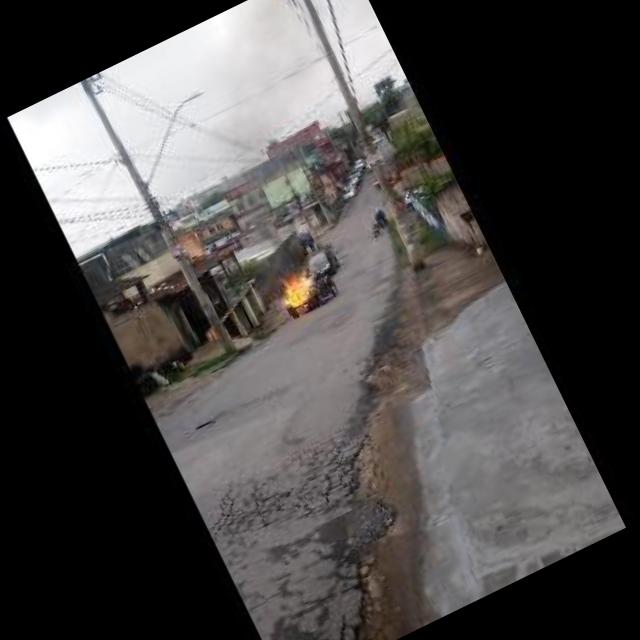fire: (274, 268, 321, 314)
smoke: (186, 98, 320, 288)
